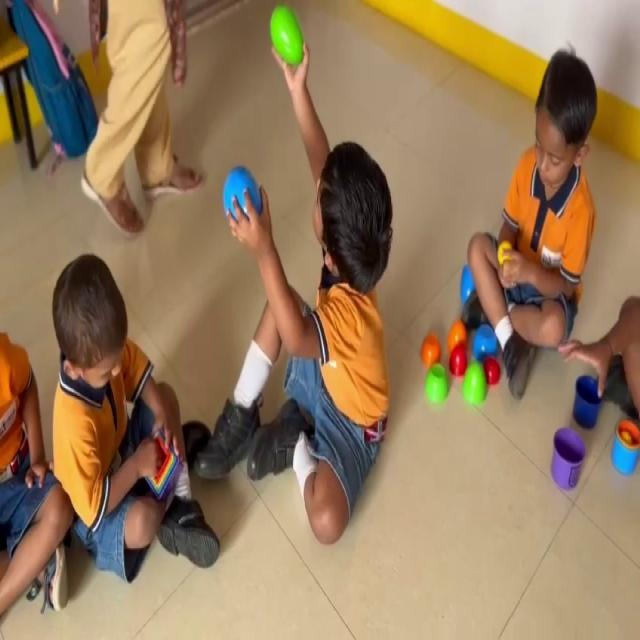child: (179, 11, 402, 575), (32, 231, 233, 614), (427, 35, 601, 458)
